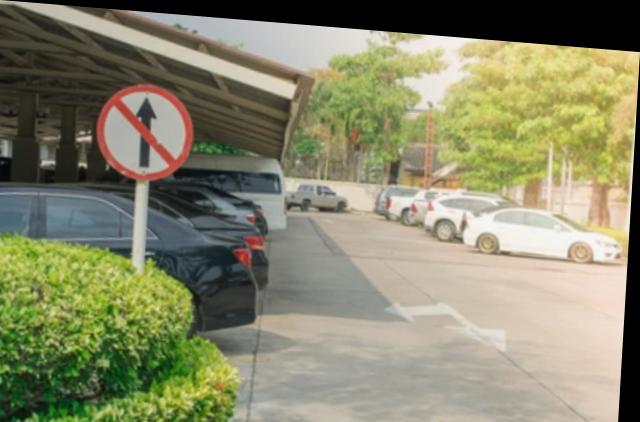not_go_straight: (95, 77, 196, 182)
